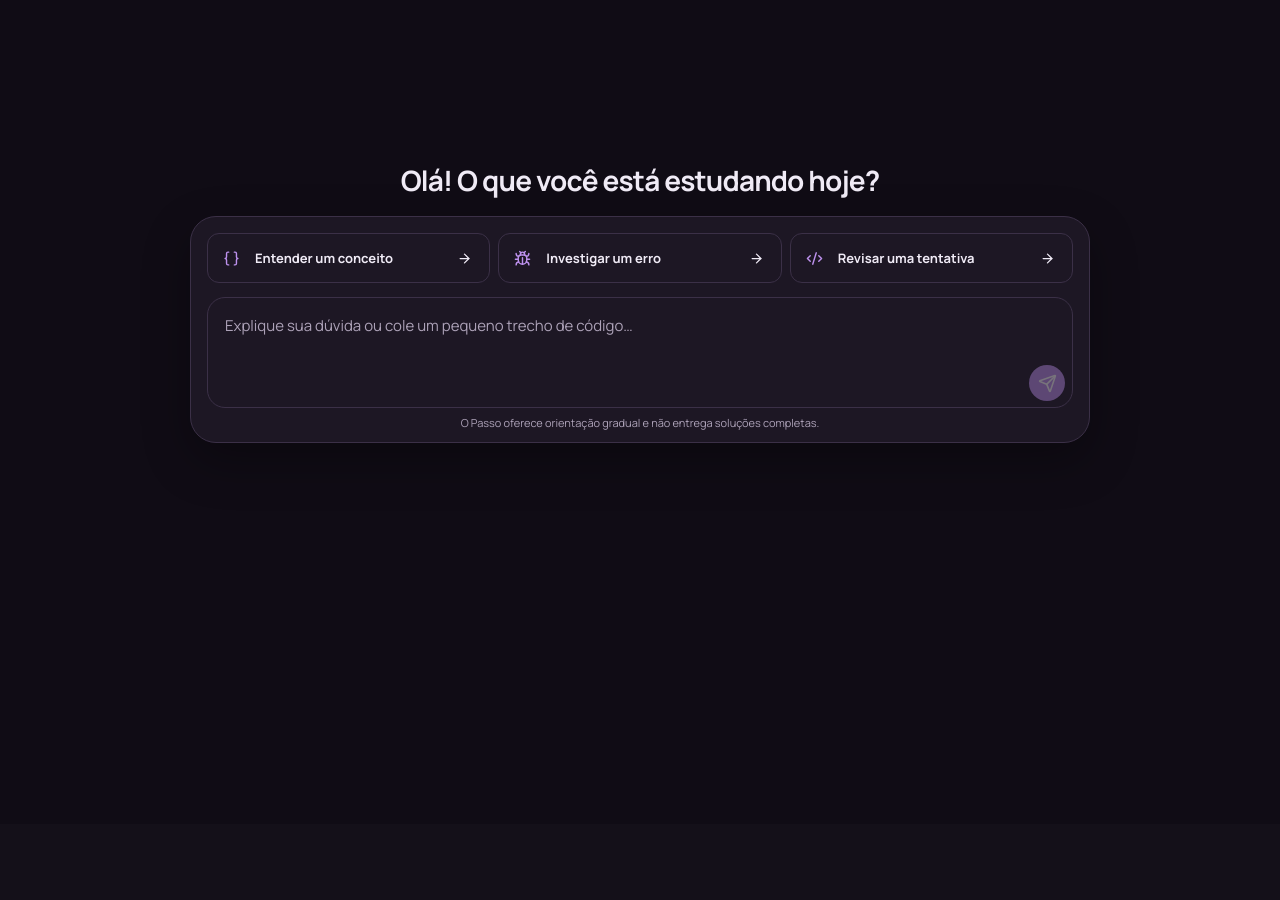
it: ChatPage progressive layout › reveals conversation history only after the first message
Expected: the text box named "Sua mensagem para o tutor" is enabled, top-left (208, 298), bottom-right (1072, 356)
Expected: the text "Conversas" is not shown
Click the button "Entender um conceito" at (349, 258), box top-left (207, 233), bottom-right (490, 283)
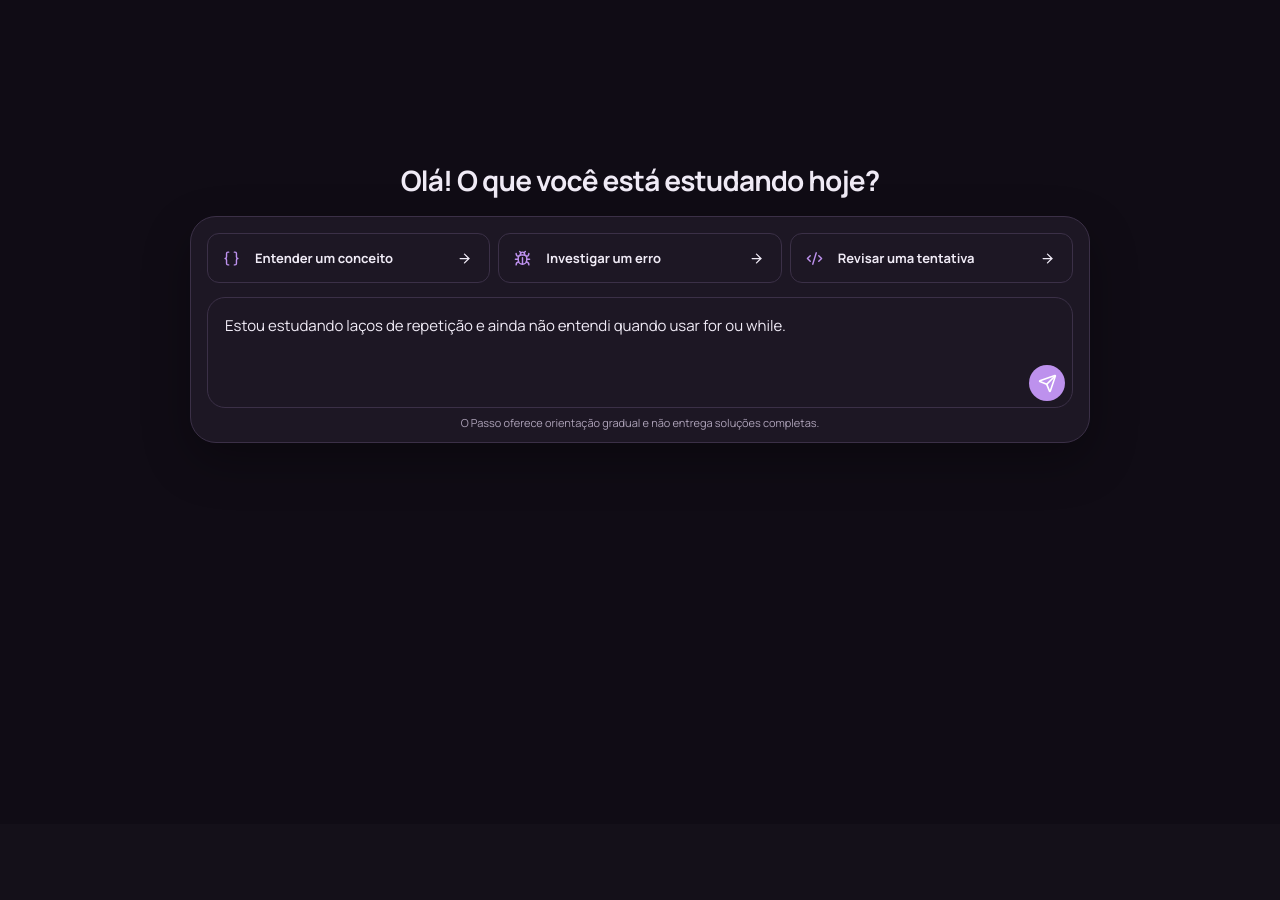
Click the button named "Enviar mensagem" at (1047, 383), box top-left (1029, 365), bottom-right (1065, 401)
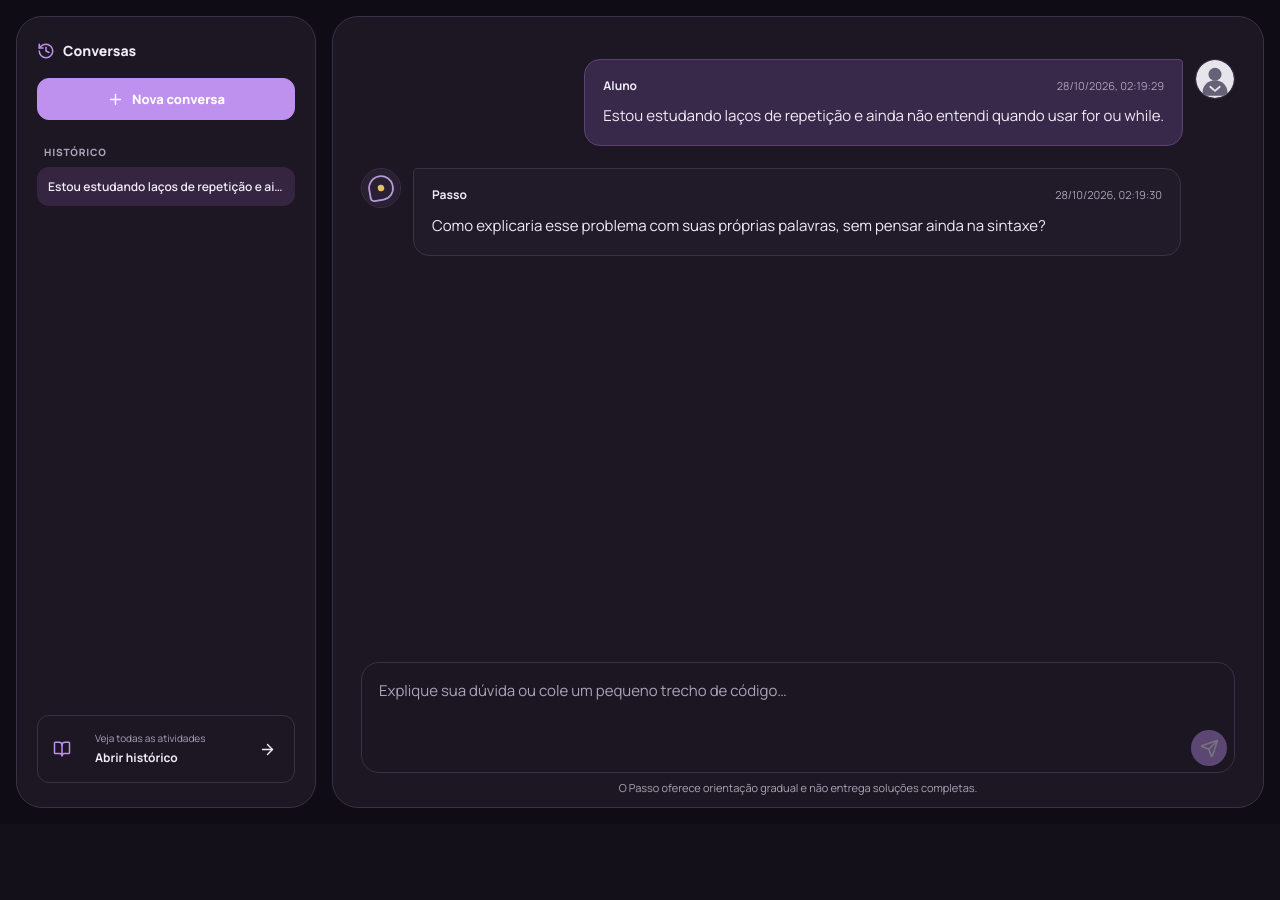
Expected: the text "Conversas" is shown, top-left (37, 41), bottom-right (136, 60)
Expected: the button "Estou estudando laços de repetição" is shown, top-left (37, 167), bottom-right (295, 206)
Expected: the text "Como explicaria esse problema" is shown, top-left (432, 215), bottom-right (1046, 236)
